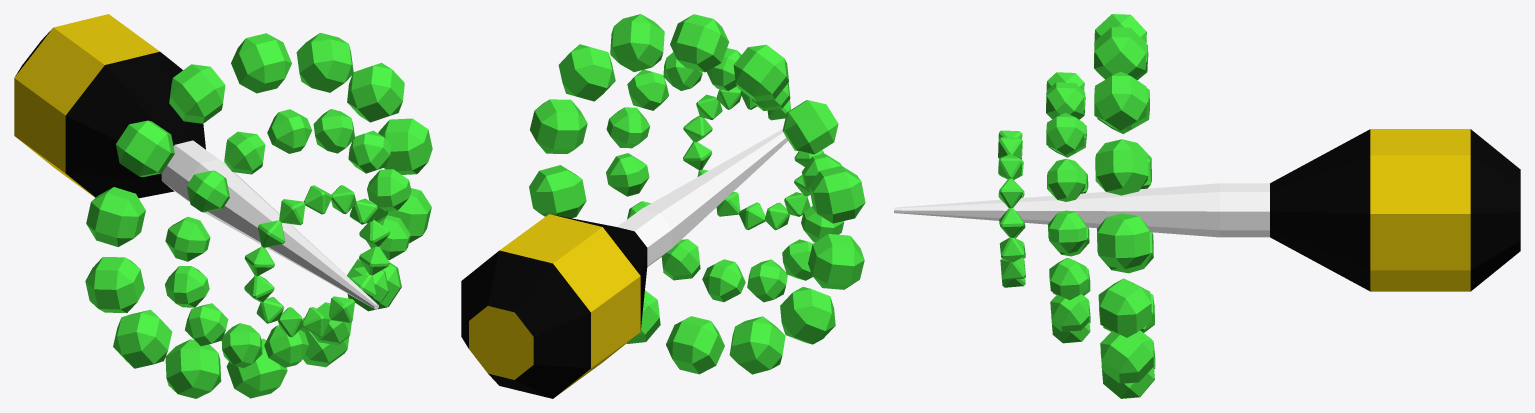
The model's file is Misailver2.fbx.
3 renders of one model, left to right at view 1: azimuth 30°, elevation 25°; view 2: azimuth 150°, elevation 25°; view 3: azimuth 270°, elevation 25°, orthographic. The views are drawn at different scales.
Visible parts, largest first — view 1: Cube, Cube.001; view 2: Cube, Cube.001; view 3: Cube.001, Cube.
Part boxes in pixels (x1,y1,x2,y2): Cube: [85, 33, 432, 398]; Cube.001: [14, 14, 378, 309]; Cube: [529, 14, 865, 374]; Cube.001: [461, 129, 788, 398]; Cube.001: [894, 129, 1520, 291]; Cube: [998, 14, 1155, 398].
Size of the model in its own units: 1517 by 1535 by 2500.
